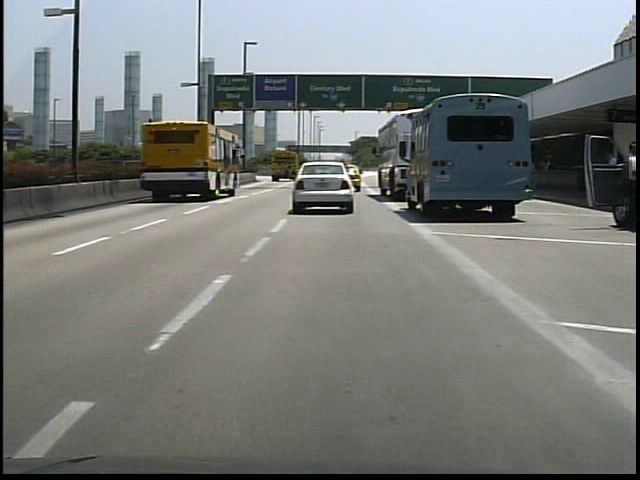person: (589, 139, 639, 229)
